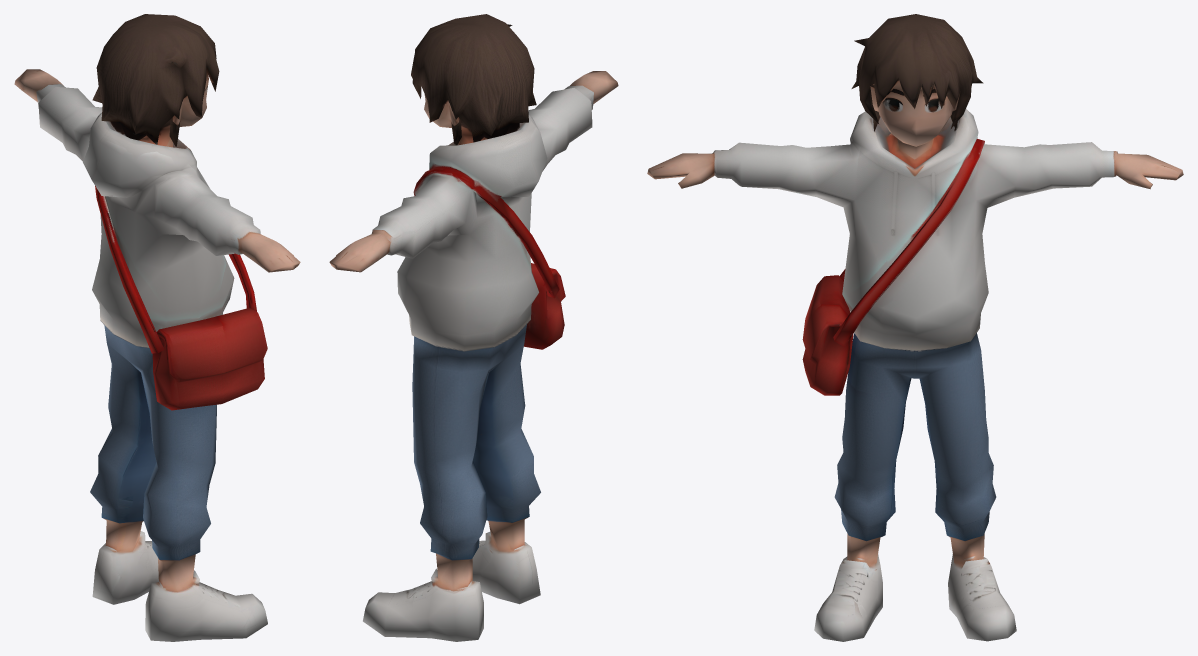
File: boy2.fbx
The picture shows the model from 3 angles, left to right: view 1: azimuth 30°, elevation 25°; view 2: azimuth 150°, elevation 25°; view 3: azimuth 270°, elevation 25°; orthographic projection.
Visible parts, largest first — view 1: meshes[0]; view 2: meshes[0]; view 3: meshes[0].
Part boxes in pixels (x1=…): meshes[0]: x1=14, y1=14, x2=300, y2=641; meshes[0]: x1=329, y1=14, x2=618, y2=641; meshes[0]: x1=647, y1=14, x2=1183, y2=641.
Size of the model in its own units: 0.2441 by 0.998 by 0.8223.
Materials: 1 (1 with a texture image).
